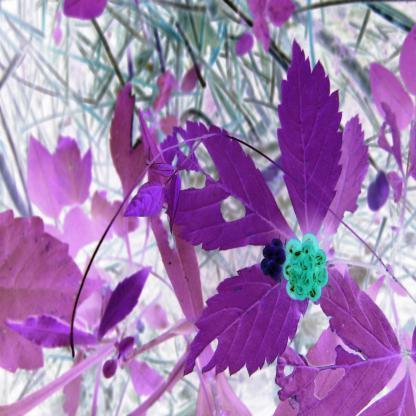Raspberry leaf: (180, 261, 316, 379), (275, 32, 347, 238)
